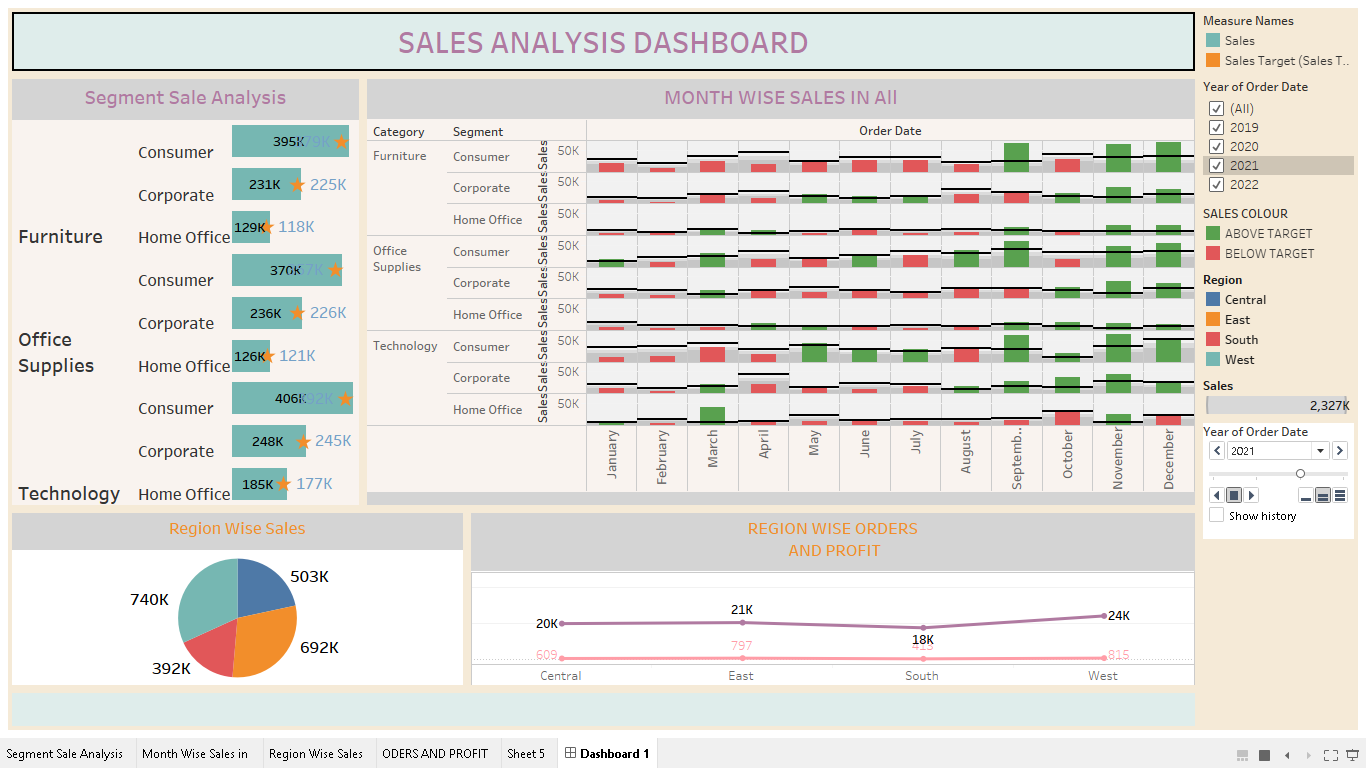

Layout of this report page (visuals, bound fields, positions):
{"tool":"tableau","page":{"name":"Dashboard 1","canvas":[1000,1000],"units":"permille","ordinal":0},"visuals":[{"type":"text","box":[6,13.7,869.4,90.7]},{"type":"legend","title":"Segment Sale Analysis","param":"[federated.0h9tq3l1j3zazy15kthcz1avuis8].[:Measure Names]","box":[875.4,13.7,118.7,113]},{"type":"worksheet","title":"Segment Sale Analysis","mark":"Automatic","rows":["Category","Segment"],"cols":["Sales","Sales Target"],"box":[6,104.5,264.9,583.9]},{"type":"worksheet","title":"Month Wise Sales in ","mark":"Bar","rows":["Category","Segment","Sales"],"cols":["Order Date"],"box":[270.9,104.5,604.5,583.9]},{"type":"filter","title":"Month Wise Sales in ","param":"[federated.0h9tq3l1j3zazy15kthcz1avuis8].[yr:Order Date:ok]","box":[875.4,126.7,118.7,217.5]},{"type":"legend","title":"Month Wise Sales in ","param":"[federated.0h9tq3l1j3zazy15kthcz1avuis8].[usr:Calculation_920423234589483010:nk]","box":[875.4,344.2,118.7,113]},{"type":"legend","title":"Region Wise Sales","param":"[federated.0h9tq3l1j3zazy15kthcz1avuis8].[none:Region:nk]","box":[875.4,457.2,118.7,181.5]},{"type":"legend","title":"Region Wise Sales","param":"[federated.0h9tq3l1j3zazy15kthcz1avuis8].[sum:Sales:qk]","box":[875.4,638.7,118.7,78.8]},{"type":"worksheet","title":"Region Wise Sales","mark":"Pie","box":[6,688.3,335.1,243.2]},{"type":"worksheet","title":"ODERS AND PROFIT","mark":"Line","rows":["Orders_EC925ABE737B4729BF0FFCCBE0D40492","Profit"],"cols":["Region"],"box":[341.1,688.3,534.3,243.2]},{"type":"currpage","title":"ODERS AND PROFIT","box":[875.4,717.5,118.7,212.3]},{"type":"blank","box":[6,931.5,869.4,54.9]}]}

Visuals, with their boxes on the dashboard's canvas, which has no fixed pixel size, in thousandths of its width and height (x1, y1, x2, y2). These are canvas units, not pixel positions in the 1366x768 screenshot, which may show the page scaled, cropped or inside an application window:
text: 6:14:875:104
"Segment Sale Analysis" legend: 875:14:994:127
"Segment Sale Analysis" worksheet: 6:104:271:688
"Month Wise Sales in " worksheet (Bar marks): 271:104:875:688
"Month Wise Sales in " filter: 875:127:994:344
"Month Wise Sales in " legend: 875:344:994:457
"Region Wise Sales" legend: 875:457:994:639
"Region Wise Sales" legend: 875:639:994:718
"Region Wise Sales" worksheet (Pie marks): 6:688:341:932
"ODERS AND PROFIT" worksheet (Line marks): 341:688:875:932
"ODERS AND PROFIT" currpage: 875:718:994:930
blank: 6:932:875:986
